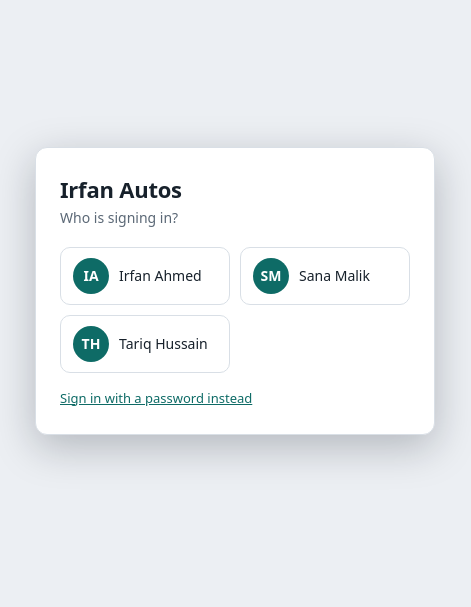
Scenario: PIN-style sign-in › keeps Sign in disabled until 4 digits and stops at 8
The width and height of the screenshot is (471, 607).
Click the button "IA Irfan Ahmed". click: click(145, 276)
box: [60, 247, 230, 305]
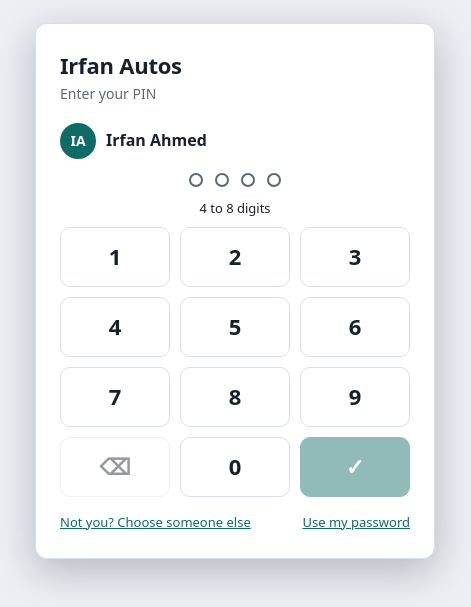
Type keys "123"
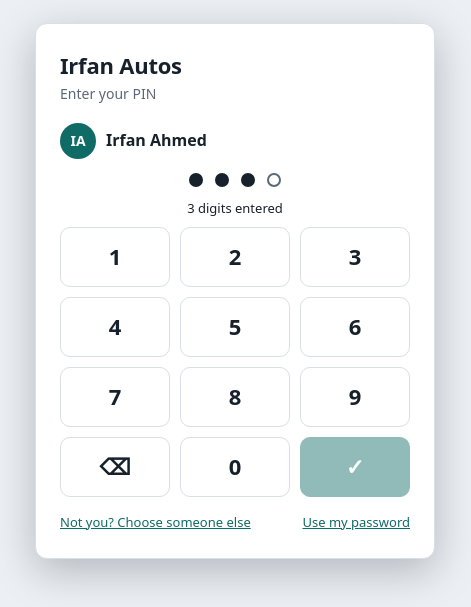
Expected: the button named "Sign in" is disabled, [300, 437, 410, 497]
Type keys "4"
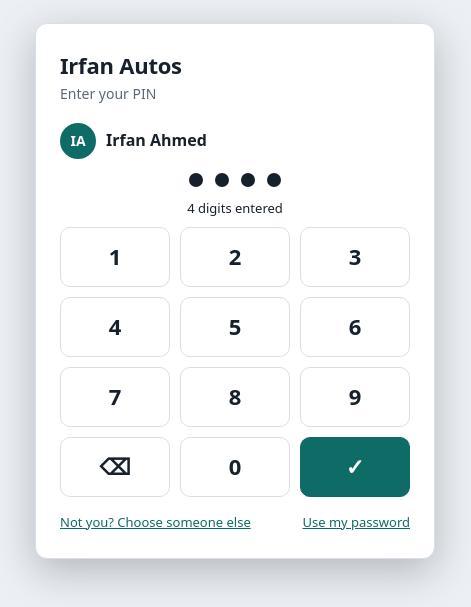
Expected: the button named "Sign in" is enabled, [300, 437, 410, 497]
Type keys "567890"
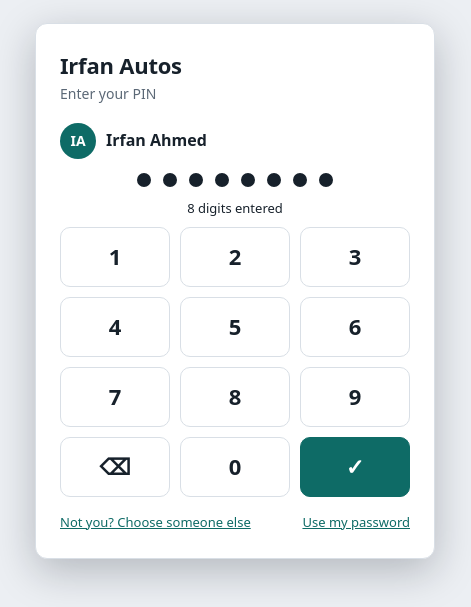
Expected: the text "8 digits entered" is shown, [187, 199, 283, 217]
